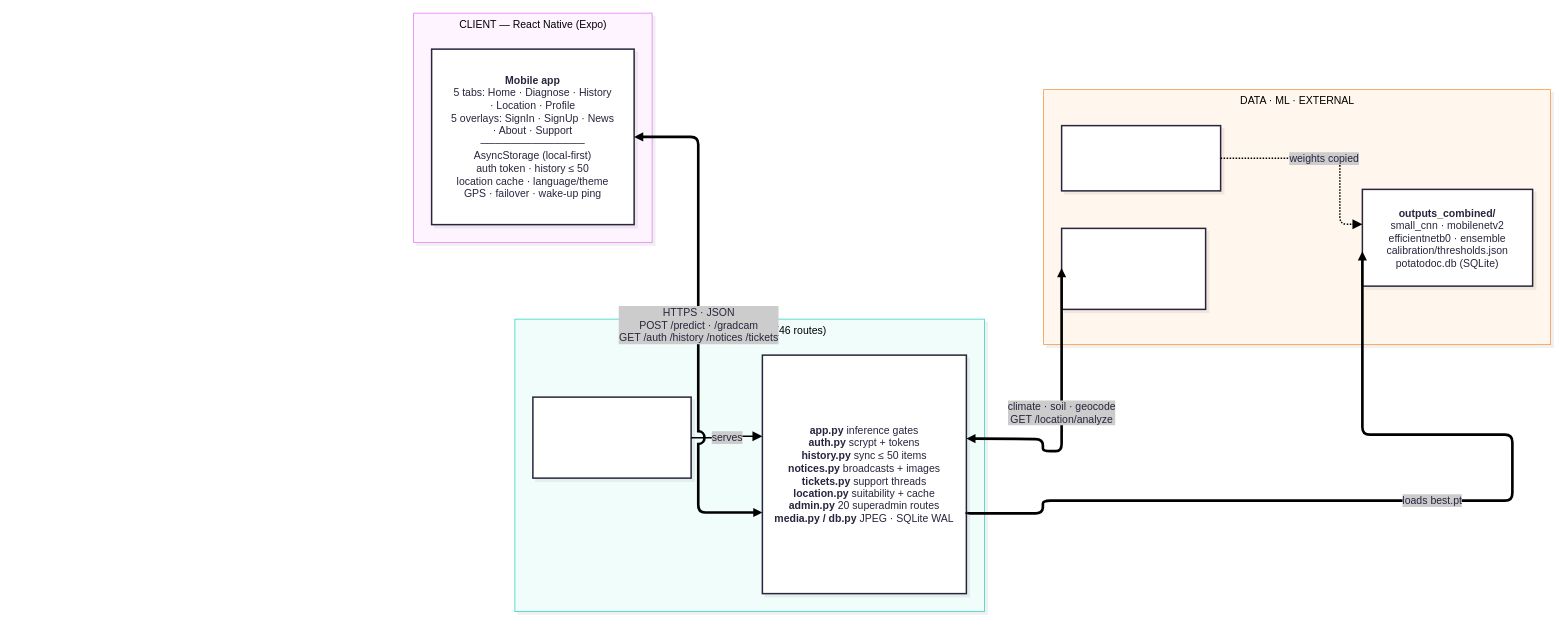
This 1567x628 diagram has some shape labels left out. The shapes that lost their labels are listed below. From the top down, each one's centre as x and y in pixels, then its label:
At [1142,159]: "Offline training RTX 3060 · train_image.py → best.pt + metrics.json".
At [1134,270]: "External APIs Open-Meteo · SoilGrids Nominatim 30-day cache".
At [613,439]: "Runtime Docker · uvicorn Google Cloud Run Cloudflare Tunnel (HTTPS)".
